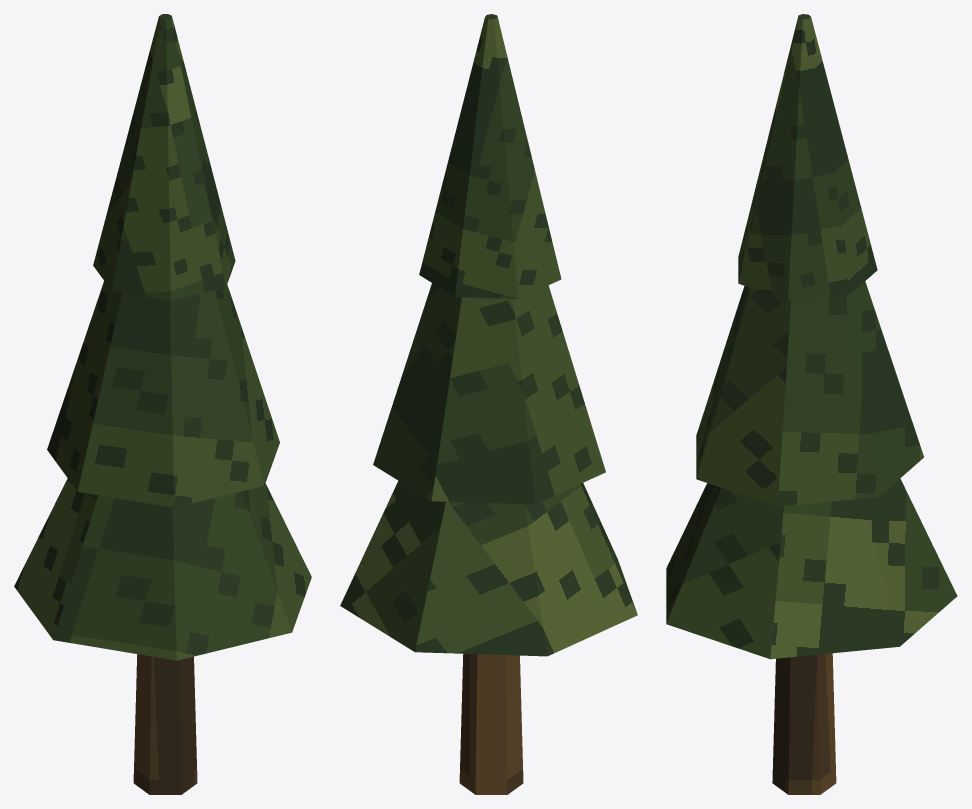
The model's file is Tree_Cypress.fbx.
3 renders of one model, left to right at view 1: azimuth 30°, elevation 25°; view 2: azimuth 150°, elevation 25°; view 3: azimuth 270°, elevation 25°, orthographic.
Parts seen in each view (by area): view 1: Tree_Cypress; view 2: Tree_Cypress; view 3: Tree_Cypress.
Part boxes in pixels (bbox=[...]): Tree_Cypress: bbox=[14, 14, 311, 794]; Tree_Cypress: bbox=[340, 14, 637, 794]; Tree_Cypress: bbox=[666, 14, 957, 794].
Bounding box in the file's own units: 224 × 635 × 219.
2 materials, 2 textured.
